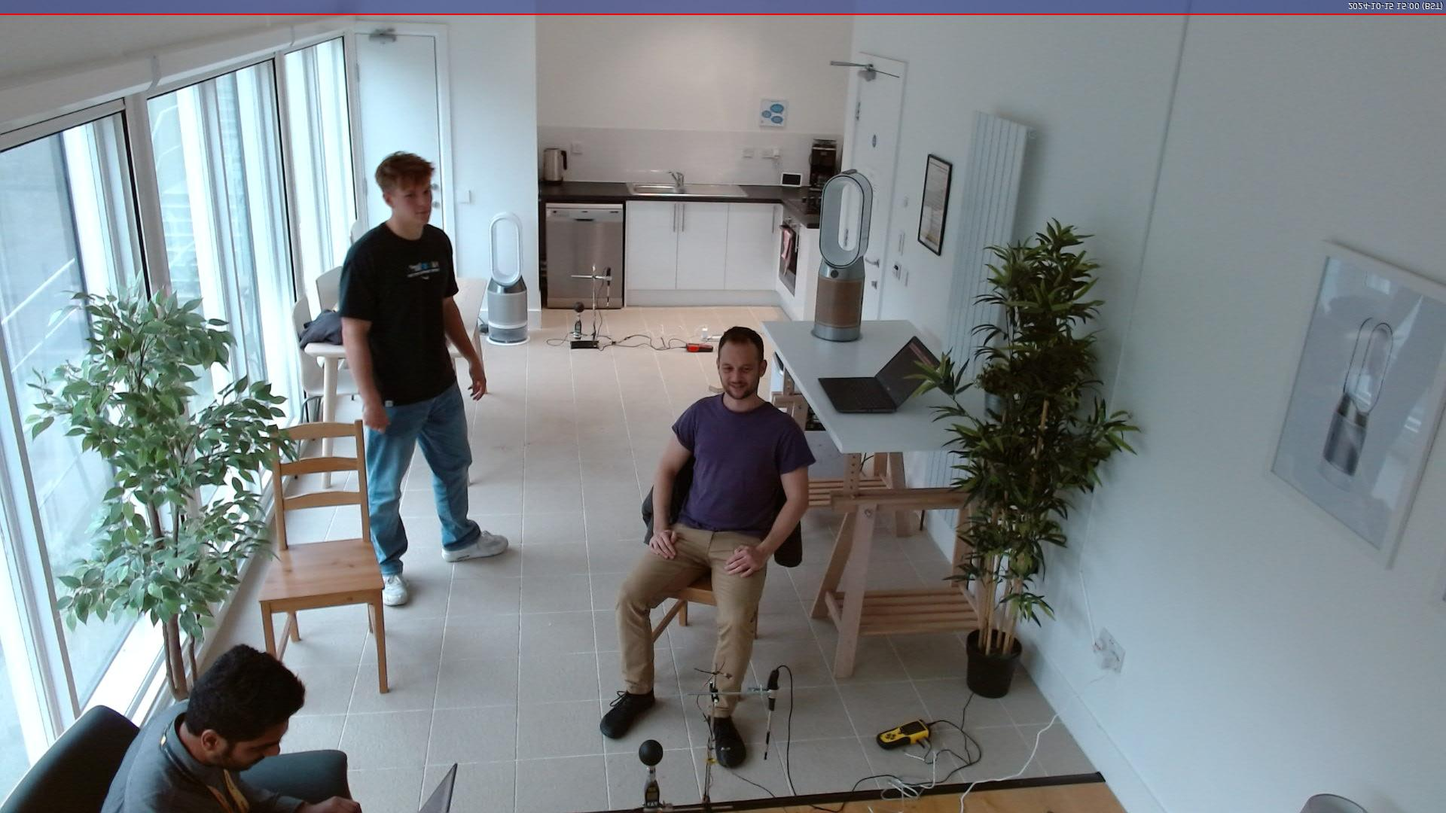long sleeve shirt: (102, 693, 307, 813)
short sleeve shirt: (337, 222, 460, 408), (666, 393, 815, 535)
trousers: (611, 526, 770, 717), (361, 381, 474, 576)
